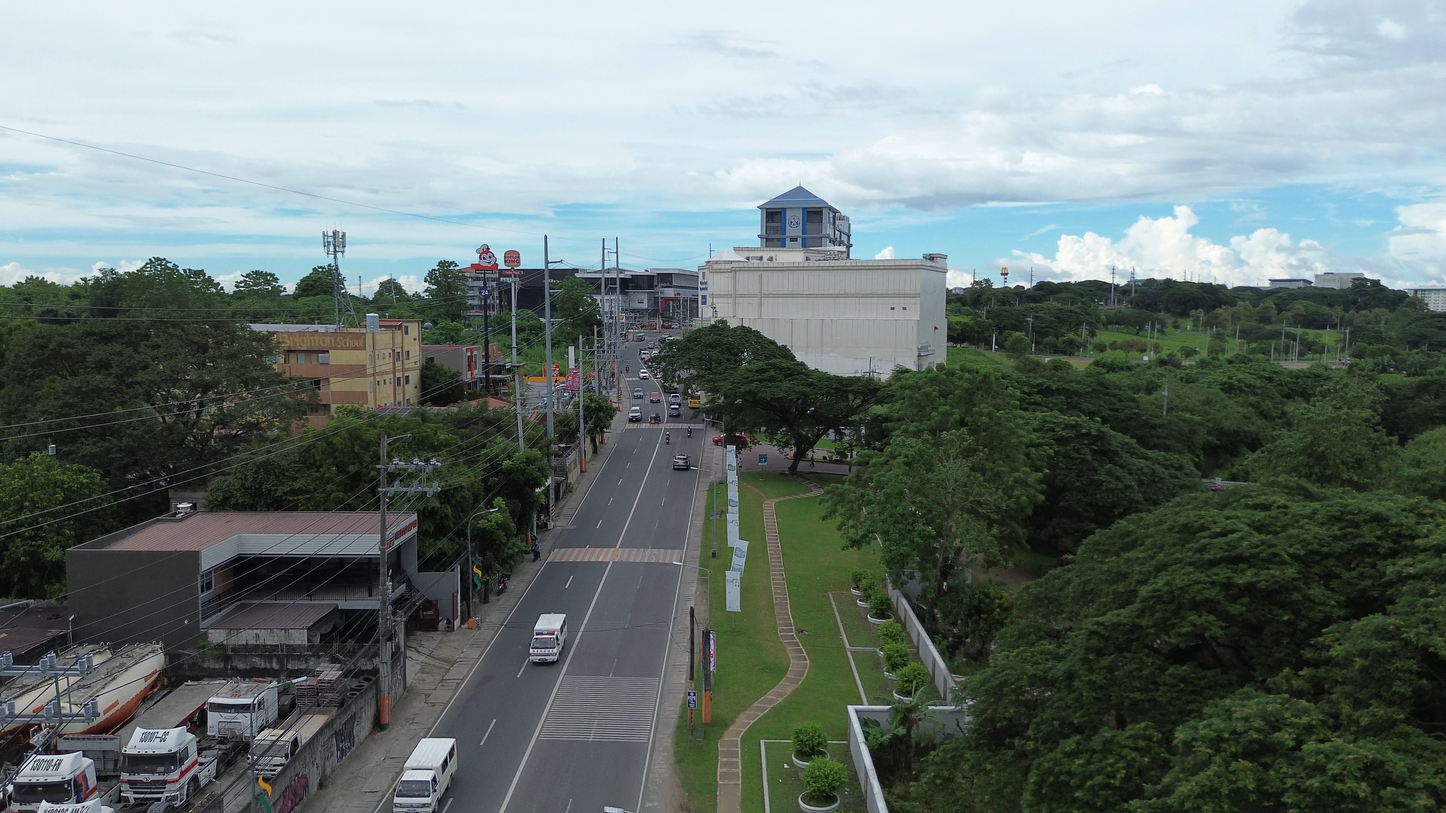car: (727, 434, 749, 447), (672, 455, 691, 470), (628, 406, 641, 422), (668, 403, 680, 416), (632, 387, 644, 399), (648, 392, 660, 403), (639, 368, 650, 380)
truck: (120, 728, 219, 806), (9, 752, 118, 813), (250, 710, 330, 779)
vehicle: (58, 681, 226, 783), (5, 643, 165, 735), (394, 738, 456, 813), (207, 679, 278, 741), (529, 614, 567, 662), (37, 798, 114, 813), (726, 434, 749, 448), (627, 405, 641, 422), (689, 394, 701, 409), (668, 403, 680, 416), (668, 393, 681, 403), (649, 413, 662, 423)
